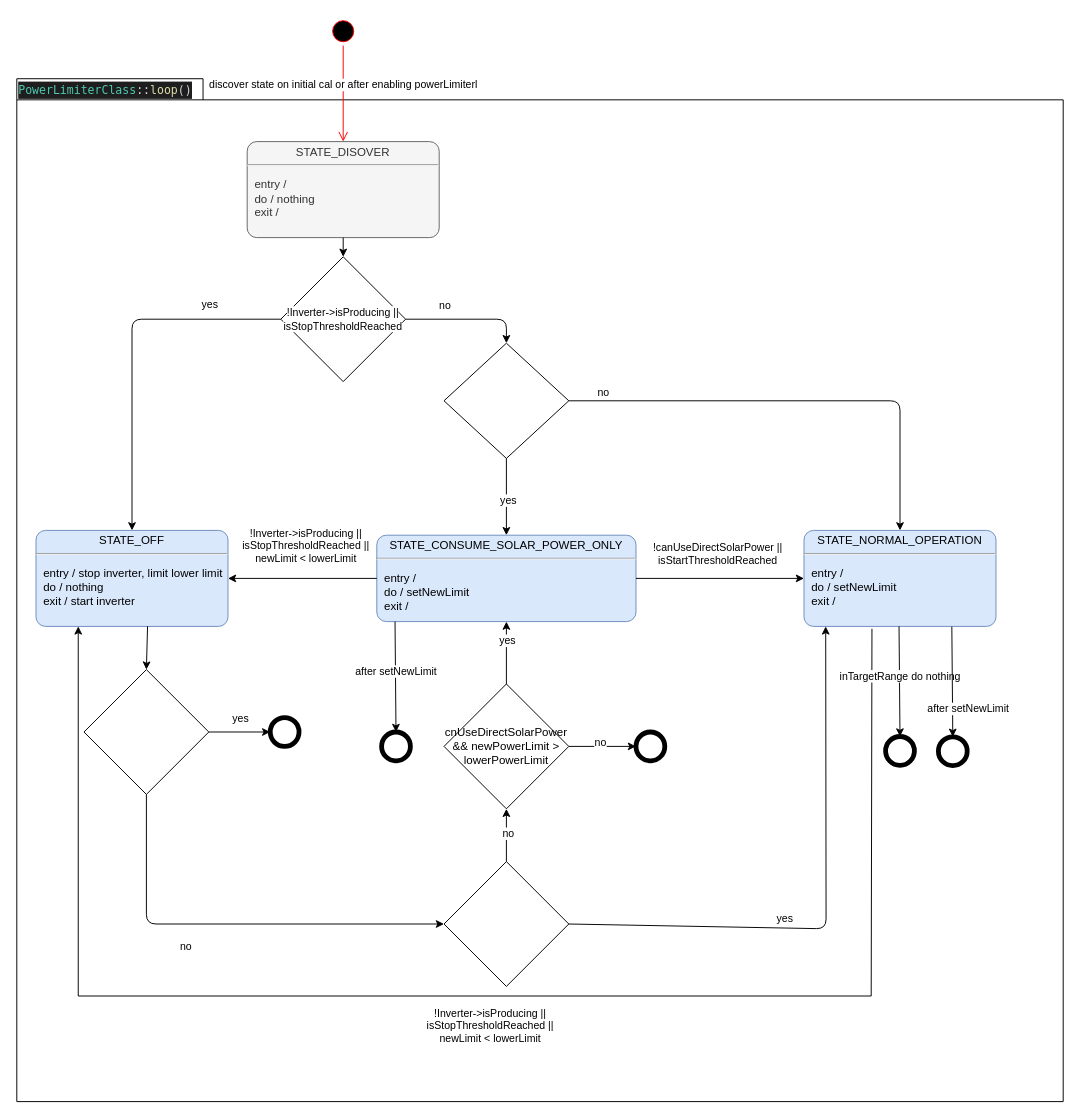
Image size: 1080x1118. Some labels were removed from this diagram. The centre of each missing label's shape, as x and y in pixels:
canUseDirectSolarPower: point 506,400
isStartThresholdReached && newPowerLimit > lowerPowerLimit: point 506,923
isStopThresholdReached: point 146,731
